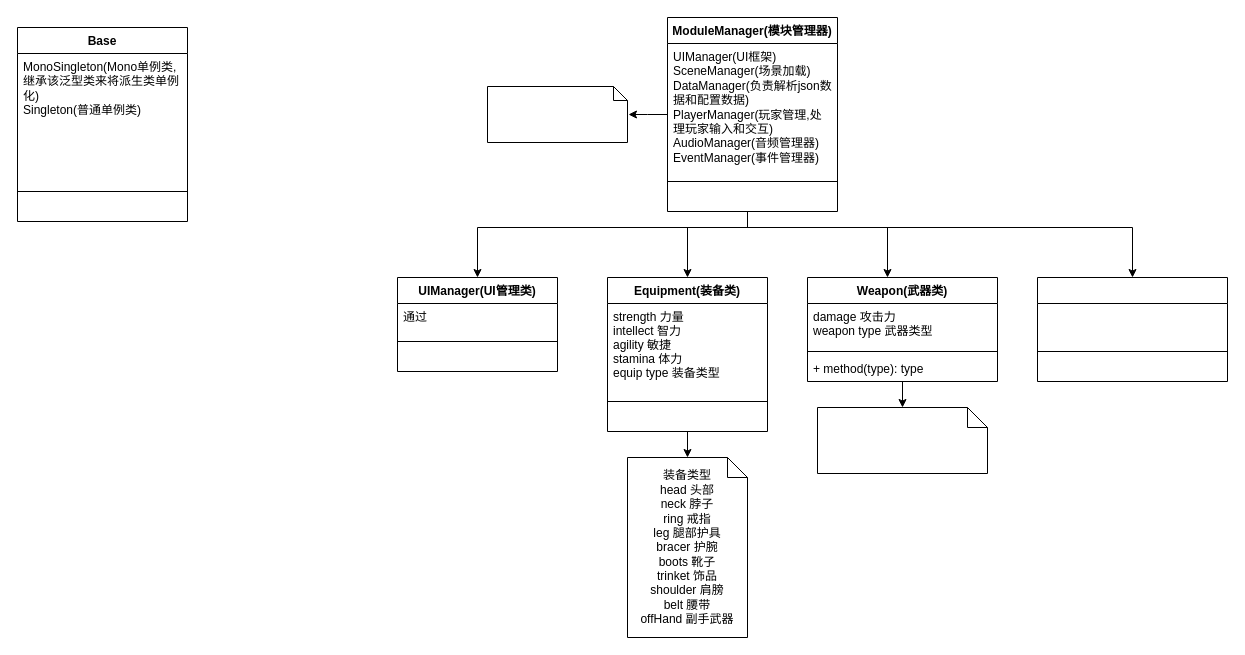
The diagram is 1245 pixels wide and 655 high, and some of its shapes have lost their labels. Each missing label, with the centre of its shape:
Material(材料类): point 1132,329
weapon type 武器类型 offHand mainHand: point 902,440
负责初始化游戏,进行游戏各个模块管理类的实例化: point 557,114
